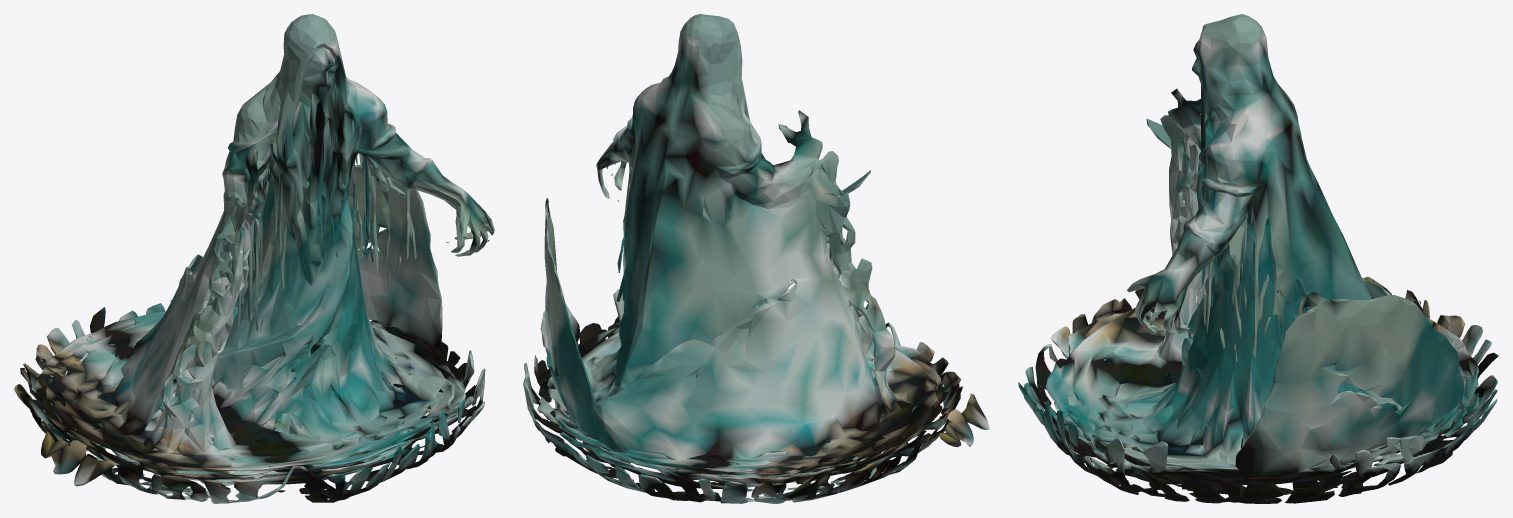
Rendered from lightningElemental.glb.
The picture shows the model from 3 angles, left to right: view 1: azimuth 30°, elevation 25°; view 2: azimuth 150°, elevation 25°; view 3: azimuth 270°, elevation 25°; orthographic projection. The views are drawn at different scales.
Visible parts, largest first — view 1: world; view 2: world; view 3: world.
Part boxes in pixels (left/top/right/bottom): world: left=14, top=14, right=494, bottom=503; world: left=523, top=14, right=989, bottom=503; world: left=1018, top=14, right=1498, bottom=503.
Size of the model in its own units: 1 by 1 by 0.9561.
